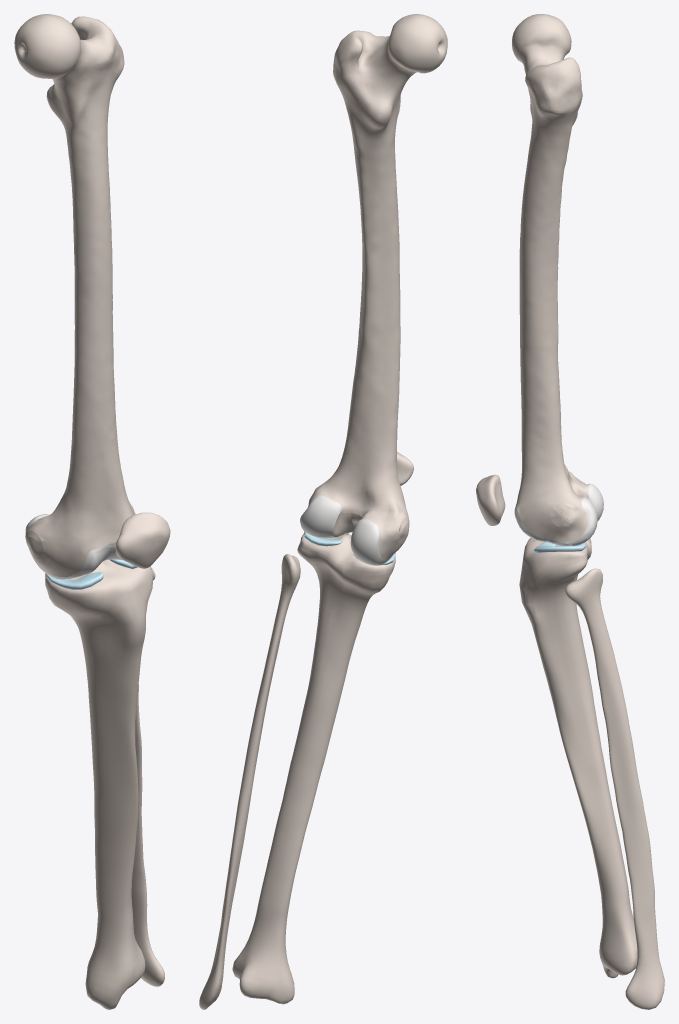
Rendered from knee-male-left.glb.
3 renders of one model, left to right at view 1: azimuth 30°, elevation 25°; view 2: azimuth 150°, elevation 25°; view 3: azimuth 270°, elevation 25°, orthographic. The views are drawn at different scales.
Visible parts, largest first — view 1: VH_M_femur_L, VH_M_tibia_L, VH_M_fibula_L, VH_M_patella_L, VH_M_meniscus_L, VH_M_medial_condyle_of_left_femur_sup; view 2: VH_M_femur_L, VH_M_tibia_L, VH_M_fibula_L, VH_M_lateral_condyle_of_femur_inf_L, VH_M_medial_condyle_of_left_femur_inf; view 3: VH_M_femur_L, VH_M_tibia_L, VH_M_fibula_L, VH_M_patella_L, VH_M_articular_cartilage_of_knee_L.
Boxes of the visible parts, x1=… form: VH_M_femur_L: x1=14, y1=14, x2=135, y2=577; VH_M_tibia_L: x1=45, y1=559, x2=153, y2=1009; VH_M_fibula_L: x1=131, y1=568, x2=164, y2=986; VH_M_patella_L: x1=115, y1=512, x2=170, y2=568; VH_M_meniscus_L: x1=47, y1=559, x2=137, y2=589; VH_M_medial_condyle_of_left_femur_sup: x1=77, y1=547, x2=110, y2=576; VH_M_femur_L: x1=308, y1=14, x2=447, y2=560; VH_M_tibia_L: x1=232, y1=533, x2=395, y2=1004; VH_M_fibula_L: x1=199, y1=554, x2=300, y2=1009; VH_M_lateral_condyle_of_femur_inf_L: x1=300, y1=496, x2=340, y2=536; VH_M_medial_condyle_of_left_femur_inf: x1=350, y1=520, x2=380, y2=564; VH_M_femur_L: x1=512, y1=14, x2=588, y2=541; VH_M_tibia_L: x1=519, y1=537, x2=637, y2=978; VH_M_fibula_L: x1=565, y1=568, x2=664, y2=1009; VH_M_patella_L: x1=476, y1=474, x2=505, y2=525; VH_M_articular_cartilage_of_knee_L: x1=515, y1=483, x2=590, y2=545.
Size of the model in its own units: 0.1734 by 0.8875 by 0.1646.
